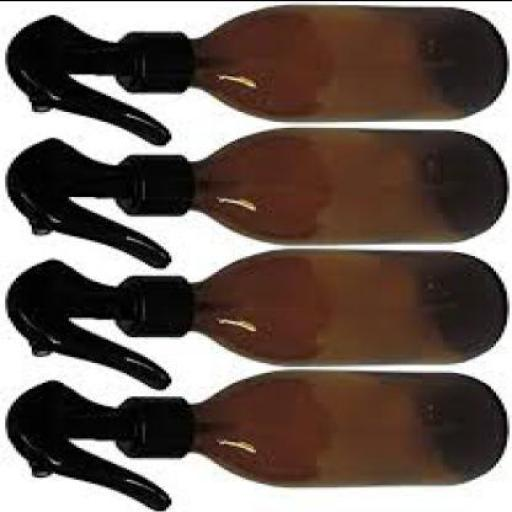glass: (187, 369, 510, 486), (184, 128, 504, 246), (182, 8, 507, 122), (190, 251, 502, 368)
plastic: (3, 16, 190, 146), (3, 261, 190, 391), (3, 138, 187, 269), (2, 382, 188, 510)
